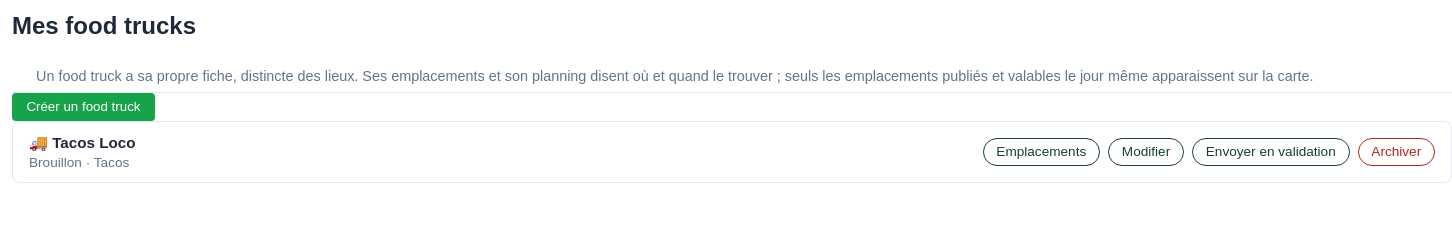
Scenario: ProFoodTrucksSection › envoie un food truck jamais validé en validation, puis retire la demande
Expected: the text "🚚 Tacos Loco" is shown, left=29, top=134, right=136, bottom=152
Click the button "Envoyer en validation": (1271, 152) left=1192, top=138, right=1350, bottom=166
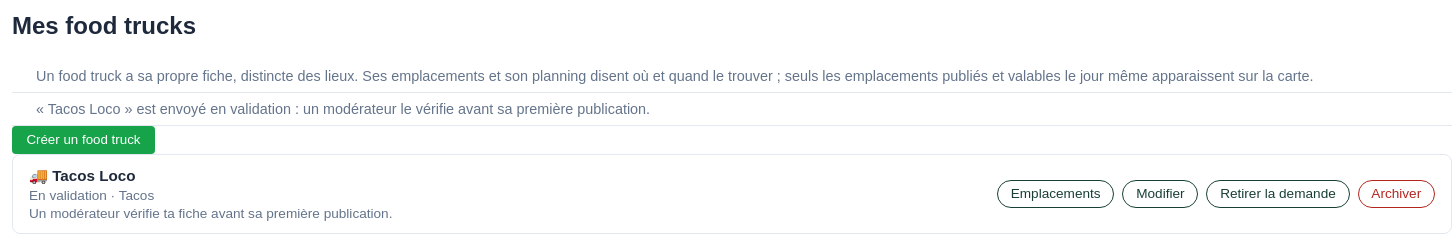
Now the text "est envoyé en validation" is shown, box left=36, top=101, right=650, bottom=117
Now the text "En validation · Tacos" is shown, box left=29, top=188, right=154, bottom=203
Now the button "Envoyer en validation" is gone
Click the button "Retirer la demande": (1278, 194) left=1206, top=180, right=1350, bottom=208
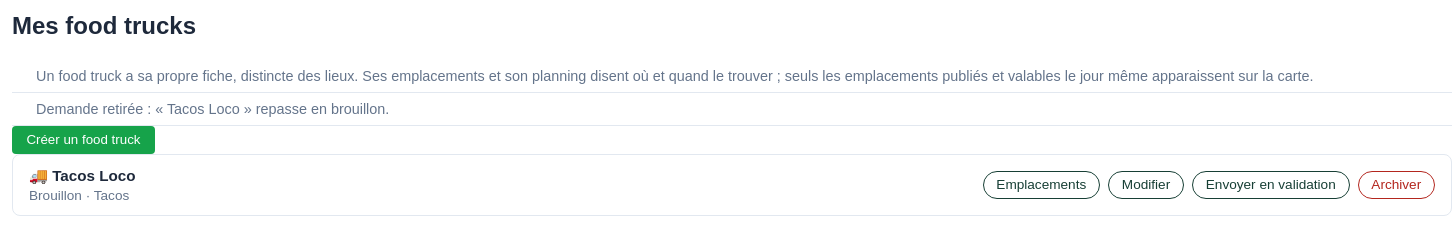
Now the text "Demande retirée : « Tacos Loco » repasse en brouillon." is shown, box left=12, top=93, right=1451, bottom=126
